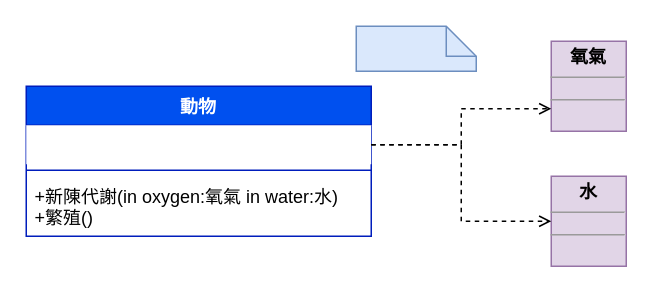
Image size: 653x293. Some labels were removed from this diagram. Each missing label, with the centre of its shape:
"+有生命" belongs at point 198,144.
"依賴關係" belongs at point 415,48.
